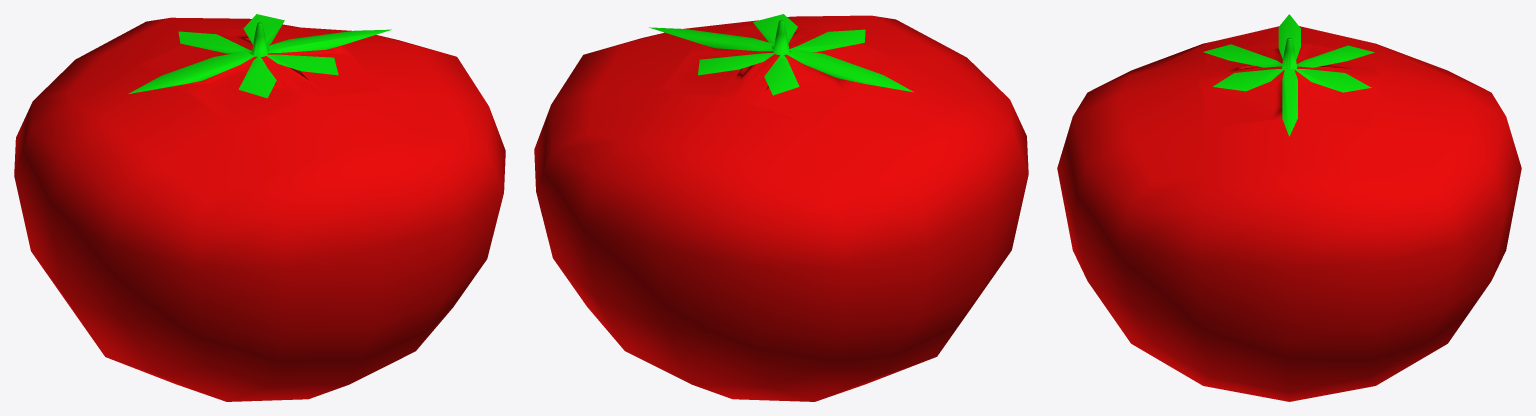
The model's file is tomato.fbx.
3 views of the same model, side by side, from view 1: azimuth 30°, elevation 25°; view 2: azimuth 150°, elevation 25°; view 3: azimuth 270°, elevation 25° (orthographic). The views are drawn at different scales.
Visible parts, largest first — view 1: pCube1; view 2: pCube1; view 3: pCube1.
Part boxes in pixels (box(x1,y1,x2,y2)): pCube1: box(14, 14, 505, 401); pCube1: box(534, 14, 1028, 401); pCube1: box(1057, 14, 1521, 401).
Size of the model in its own units: 3.29 by 2.64 by 3.29.
